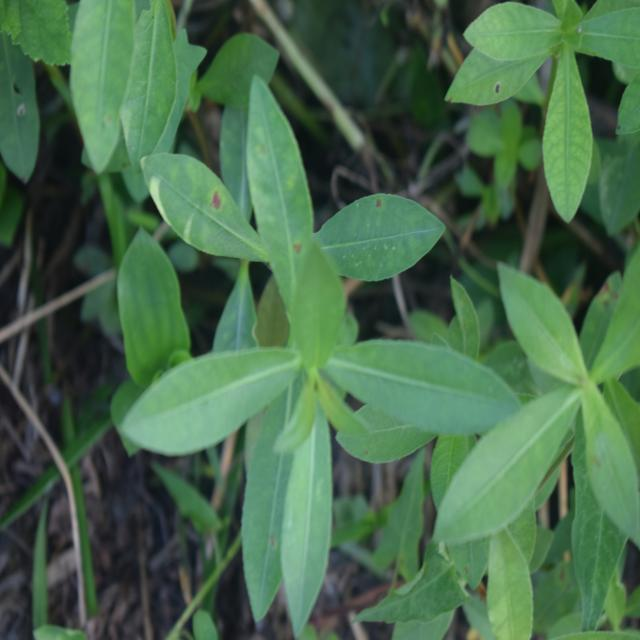Alligatorweed: (141, 109, 493, 578)
